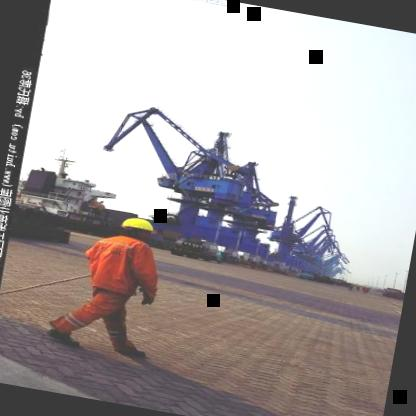helmet: (112, 212, 160, 245)
